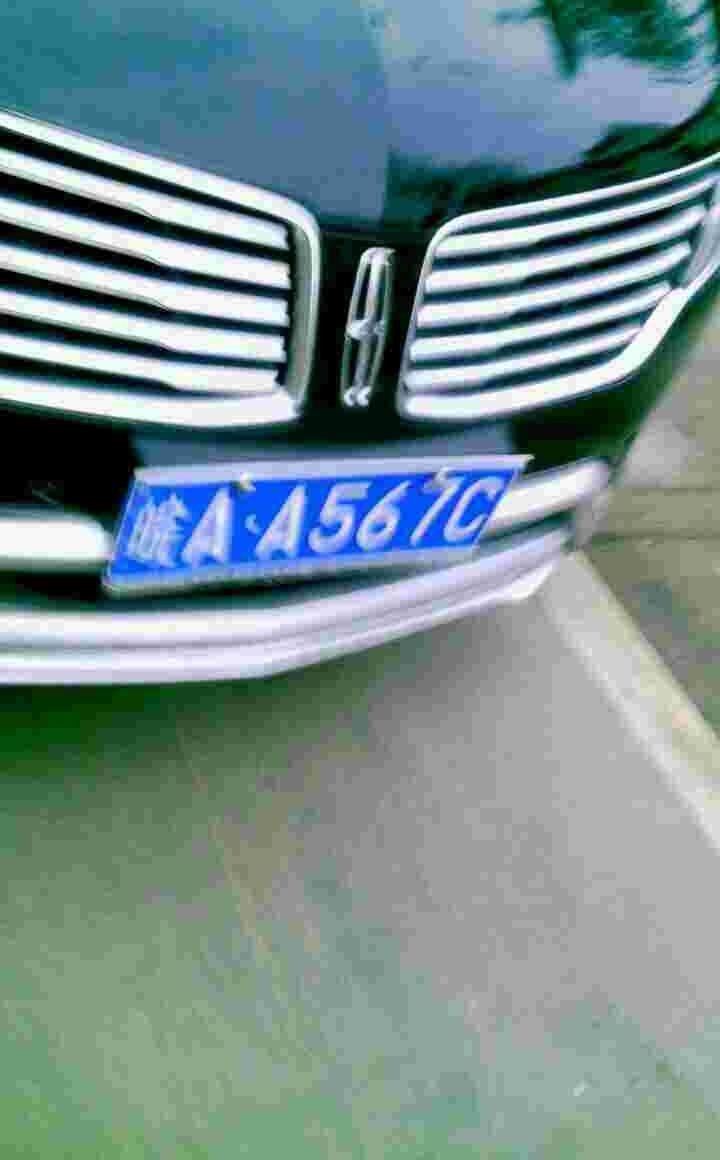license_plate: (120, 461, 526, 583)
